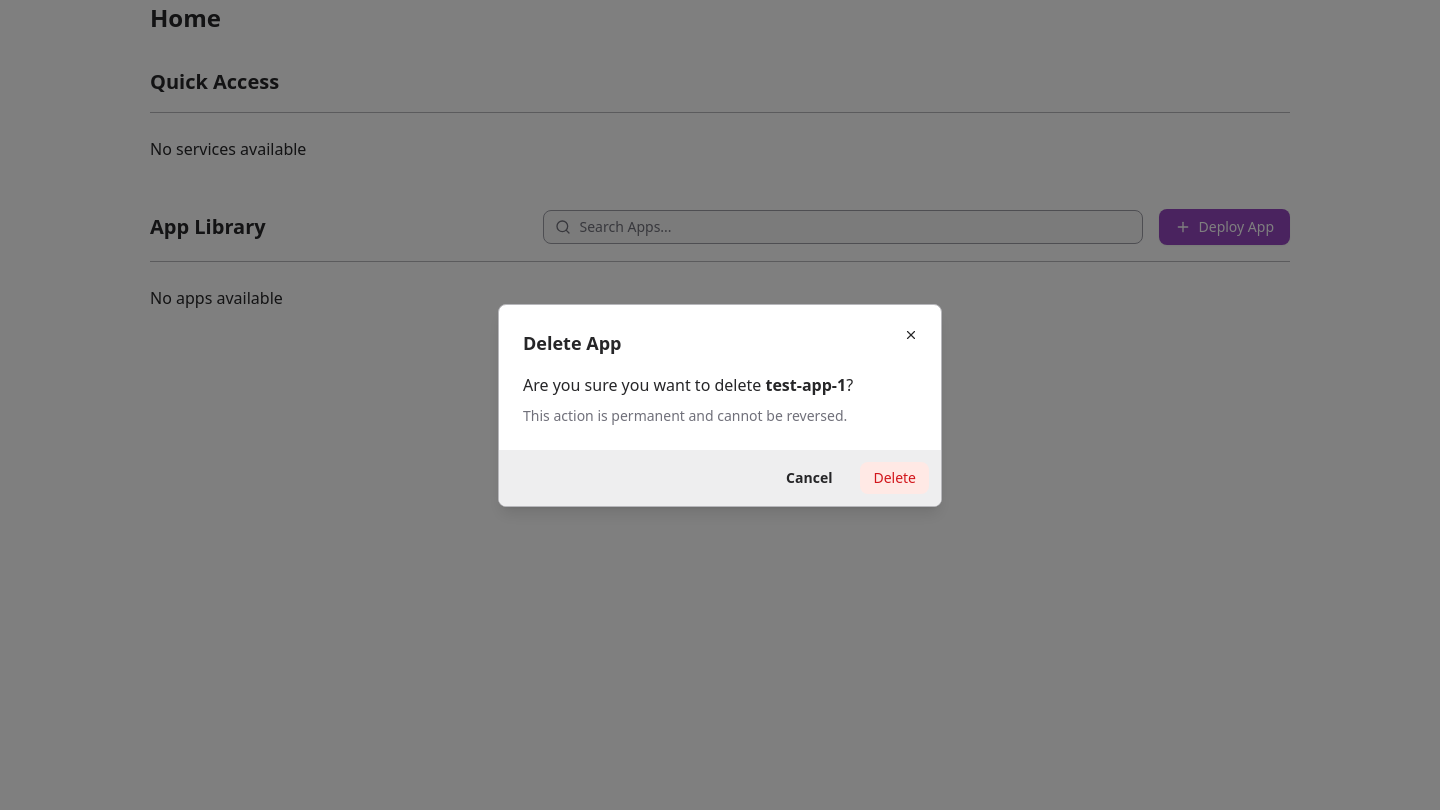
it: Home › should render with delete modal and submit with success snackbar
Expected: the dialog with test id "DeleteModal" is shown, [498,304,942,506]
Click the button with id "delete-btn".
click(895, 478)  # box [860,462,929,494]
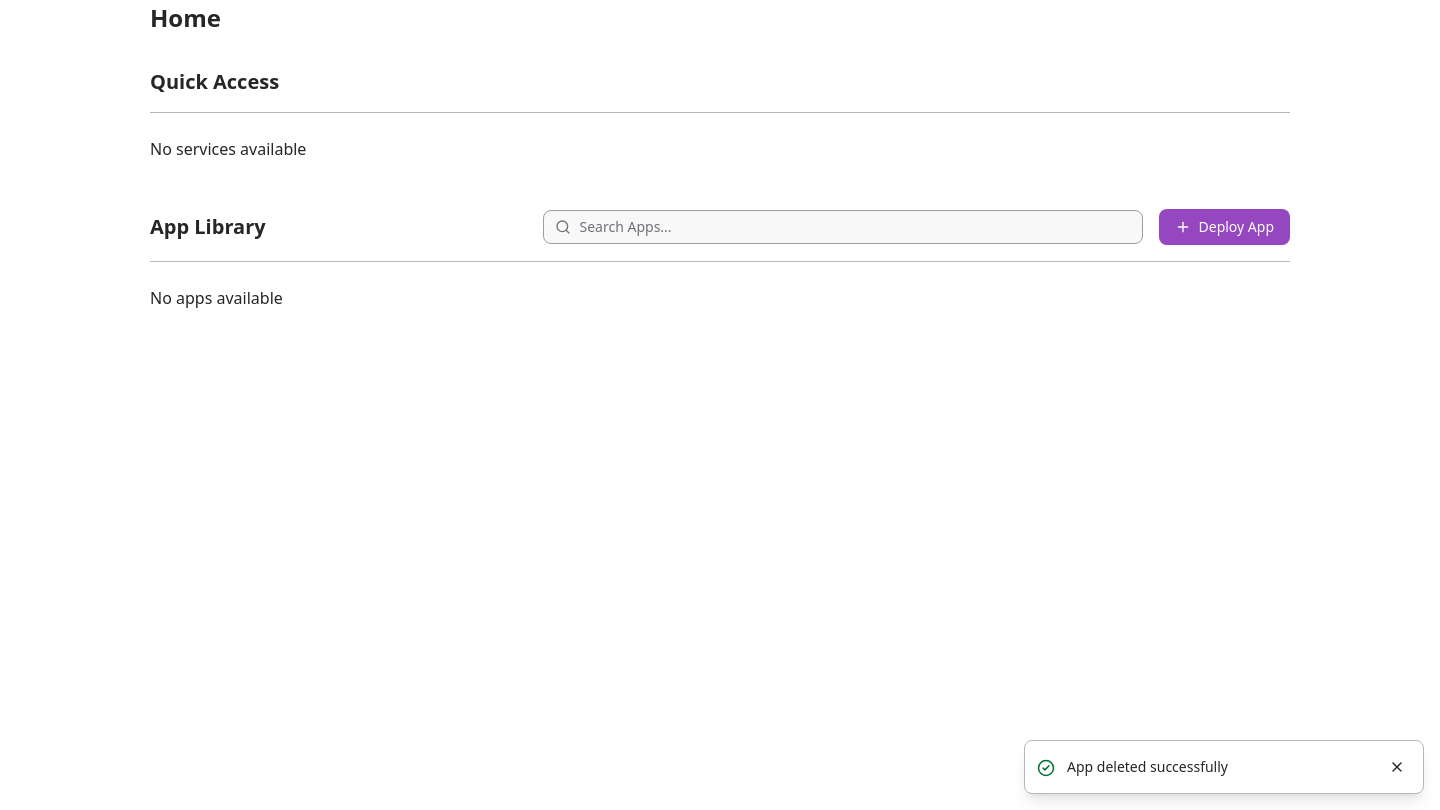
Expected: the heading "App deleted successfully" is shown, [1067,757,1228,776]
